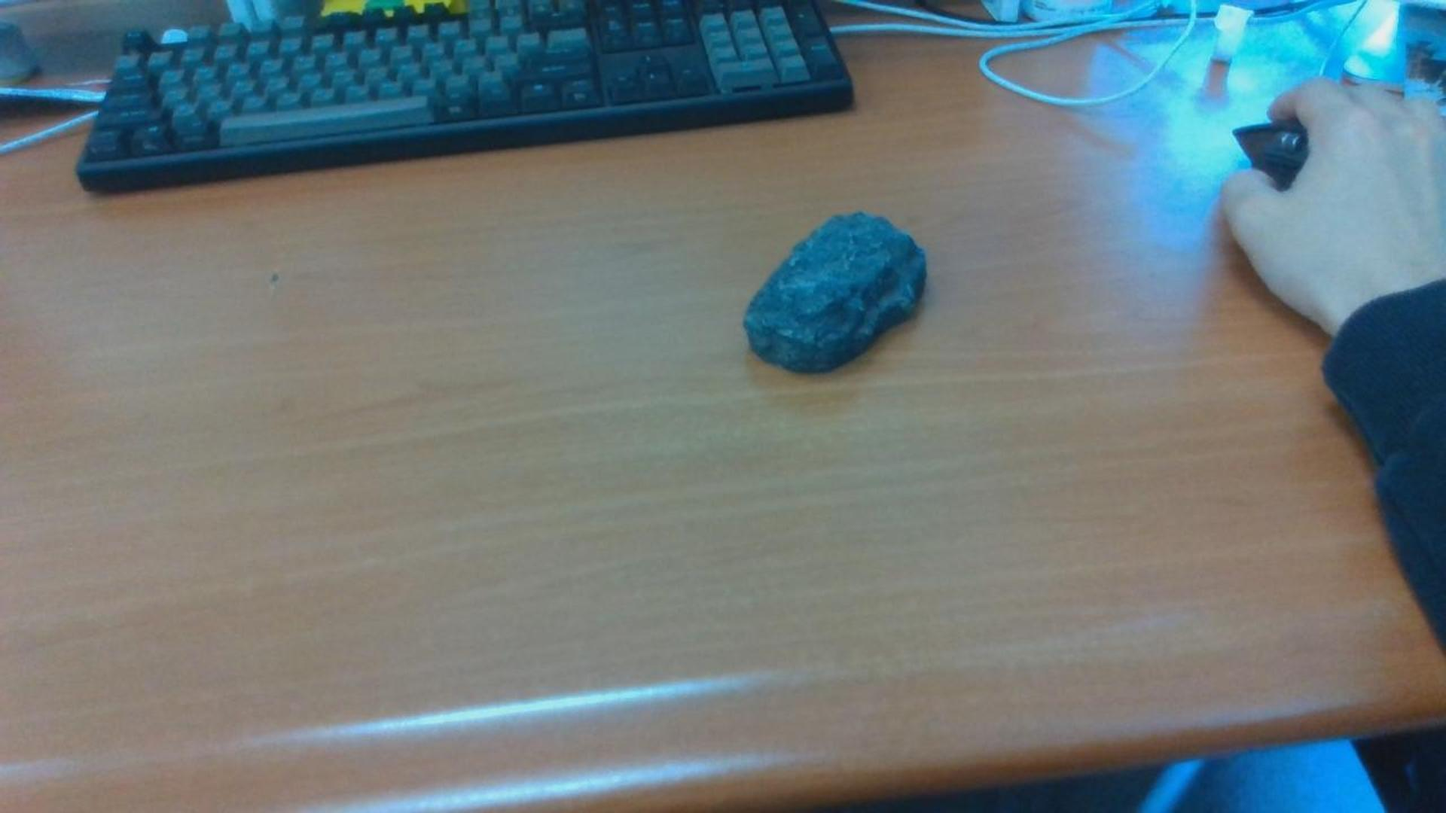rock: (743, 211, 925, 371)
